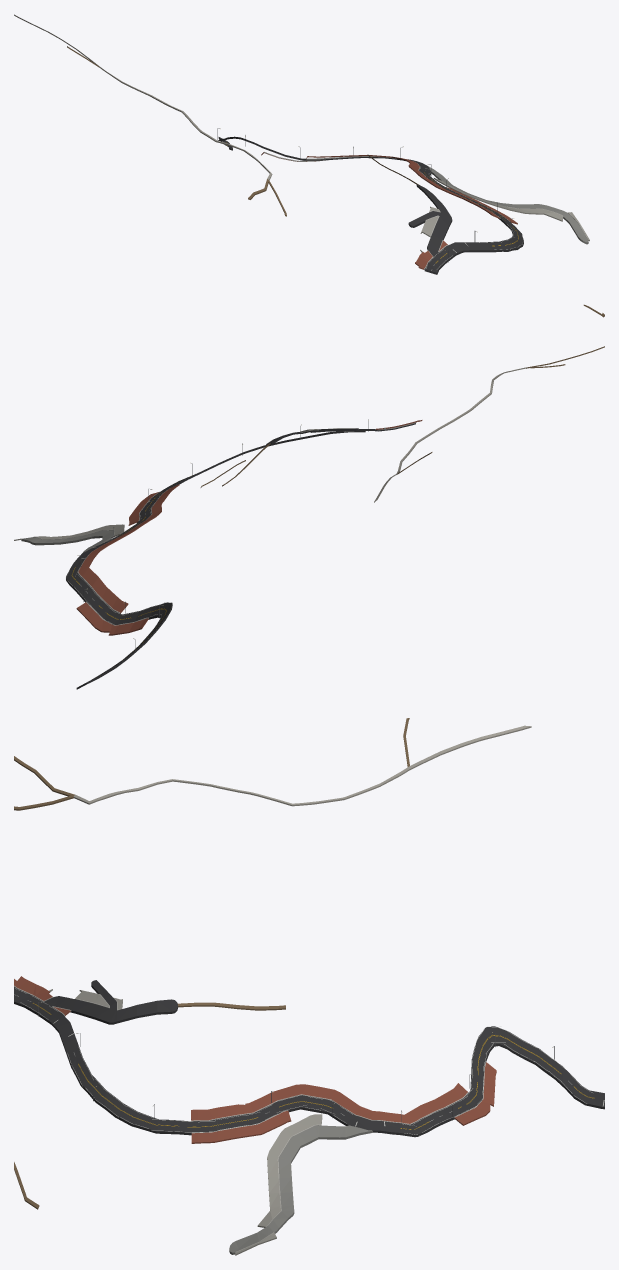
3 renders of one model, top to bottom at view 1: azimuth 30°, elevation 25°; view 2: azimuth 150°, elevation 25°; view 3: azimuth 270°, elevation 25°, orthographic. The views are drawn at different scales.
Bounding box in the file's own units: 293 × 156 × 292.
